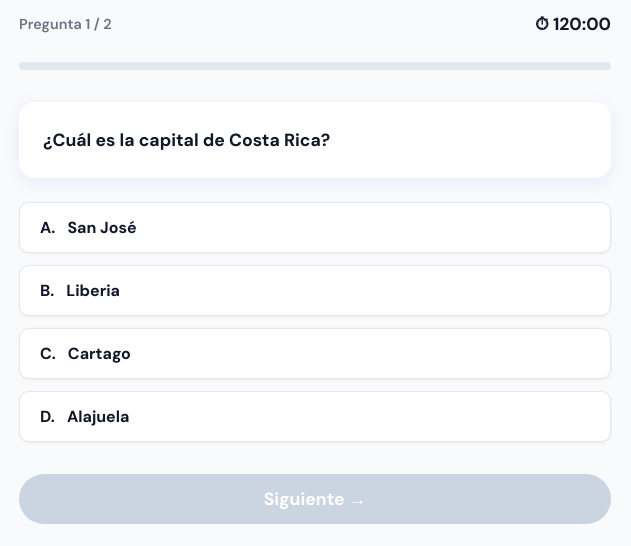
Test: SimulacroActive › advances to next question when "Siguiente" clicked
What coordinates should you click on to do the following:
click the button "A.San José"
I would click on:
 (102, 228)
Its box is [19, 202, 611, 253].
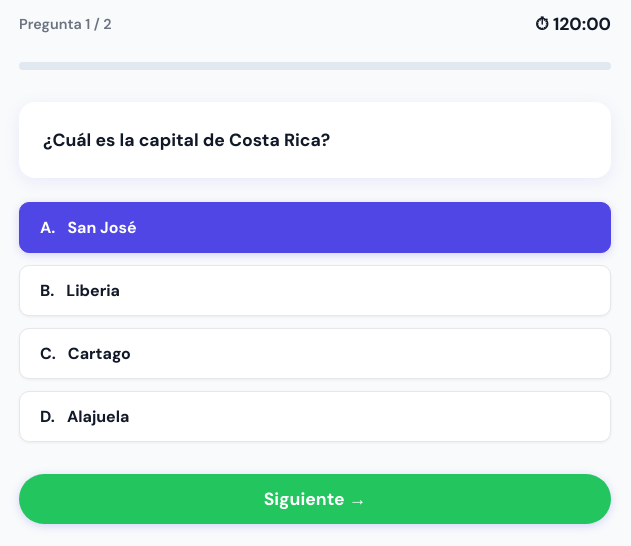
What coordinates should you click on to do the following:
click the button "Siguiente →"
I would click on:
 (315, 499)
Its box is [19, 474, 611, 524].
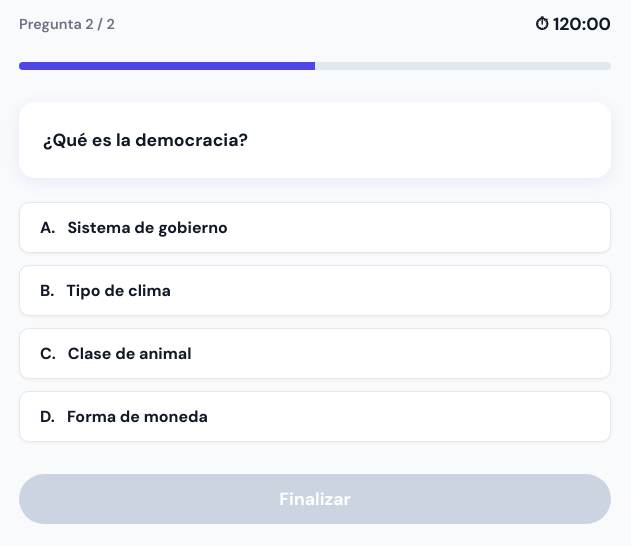
Result: the text "¿Qué es la democracia?" is shown at [43, 129, 248, 151]
